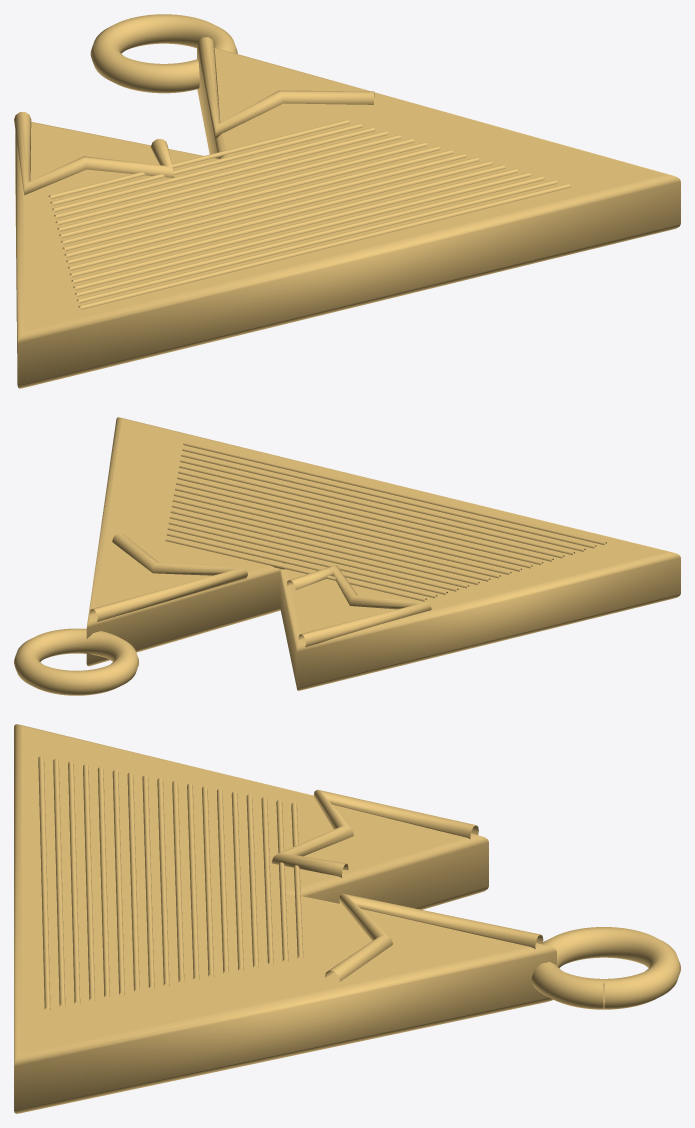
File: pendant-20-gold.glb
3 renders of one model, top to bottom at view 1: azimuth 30°, elevation 25°; view 2: azimuth 150°, elevation 25°; view 3: azimuth 270°, elevation 25°, orthographic. The views are drawn at different scales.
Parts seen in each view (by area): view 1: Cast relief.046, Wire detail.018, Wire detail.020, Wire detail.019, Wire detail.021, Wire detail.022, Wire detail.023, Wire detail.024, Wire detail.025, Wire detail.026, Wire detail.027, Wire detail.028 (+10 smaller); view 2: Cast relief.046, Wire detail.018, Wire detail.020, Wire detail.019, Wire detail.021, Wire detail.022, Wire detail.023, Wire detail.024, Wire detail.025, Wire detail.026, Wire detail.027, Wire detail.028 (+10 smaller); view 3: Cast relief.046, Wire detail.018, Wire detail.019, Wire detail.020, Wire detail.021, Wire detail.022, Wire detail.023, Wire detail.024, Wire detail.025, Wire detail.026, Wire detail.027, Wire detail.028 (+10 smaller).
Boxes of the visible parts, left/top/right/bottom form: Cast relief.046: left=15, top=46, right=680, bottom=388; Wire detail.018: left=90, top=14, right=237, bottom=93; Wire detail.020: left=197, top=37, right=374, bottom=139; Wire detail.019: left=14, top=112, right=174, bottom=195; Wire detail.021: left=78, top=183, right=570, bottom=309; Wire detail.022: left=76, top=180, right=557, bottom=303; Wire detail.023: left=75, top=176, right=544, bottom=296; Wire detail.024: left=73, top=172, right=531, bottom=290; Wire detail.025: left=71, top=168, right=518, bottom=283; Wire detail.026: left=69, top=165, right=505, bottom=277; Wire detail.027: left=68, top=161, right=492, bottom=270; Wire detail.028: left=66, top=157, right=479, bottom=264; Cast relief.046: left=86, top=417, right=680, bottom=690; Wire detail.018: left=14, top=628, right=138, bottom=695; Wire detail.020: left=89, top=533, right=247, bottom=621; Wire detail.019: left=286, top=565, right=431, bottom=646; Wire detail.021: left=183, top=441, right=606, bottom=544; Wire detail.022: left=182, top=447, right=596, bottom=548; Wire detail.023: left=181, top=453, right=585, bottom=551; Wire detail.024: left=180, top=458, right=575, bottom=554; Wire detail.025: left=179, top=464, right=564, bottom=558; Wire detail.026: left=178, top=470, right=553, bottom=561; Wire detail.027: left=177, top=475, right=543, bottom=564; Wire detail.028: left=176, top=481, right=532, bottom=568; Cast relief.046: left=14, top=724, right=556, bottom=1113; Wire detail.018: left=531, top=927, right=680, bottom=1009; Wire detail.019: left=271, top=789, right=478, bottom=877; Wire detail.020: left=324, top=893, right=543, bottom=981; Wire detail.021: left=38, top=756, right=50, bottom=1009; Wire detail.022: left=53, top=758, right=65, bottom=1005; Wire detail.023: left=68, top=761, right=80, bottom=1003; Wire detail.024: left=83, top=764, right=95, bottom=1000; Wire detail.025: left=97, top=767, right=109, bottom=996; Wire detail.026: left=112, top=769, right=124, bottom=994; Wire detail.027: left=127, top=772, right=139, bottom=991; Wire detail.028: left=142, top=775, right=154, bottom=987.
Size of the model in its own units: 0.0124 by 0.00115 by 0.0103.
